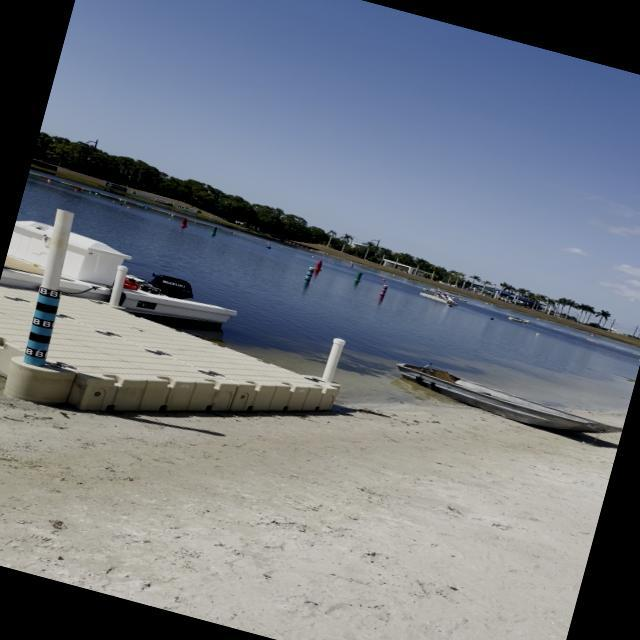buoy: (351, 269, 365, 284), (264, 243, 272, 250), (380, 276, 388, 282), (125, 204, 132, 210), (110, 198, 118, 203), (73, 187, 78, 192), (167, 217, 173, 221), (88, 190, 92, 194)
